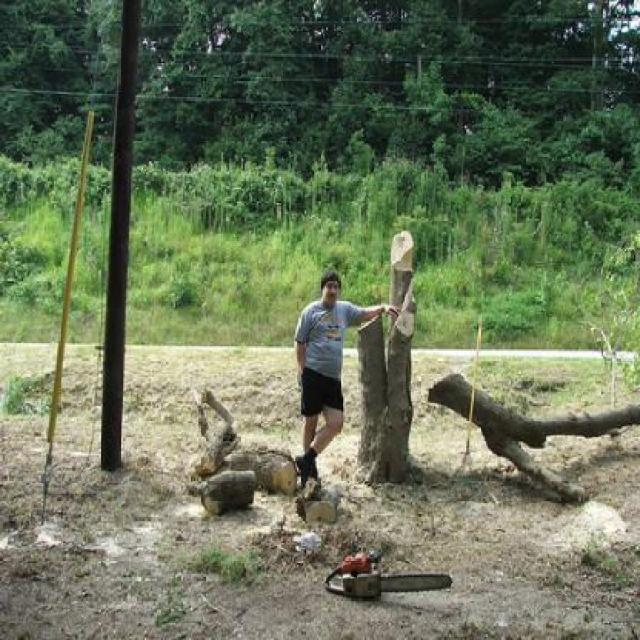Chainsaw: (320, 548, 454, 603)
